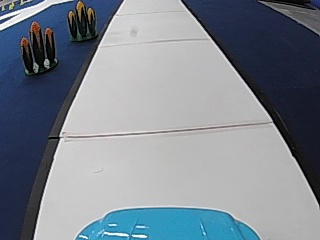corn: (19, 19, 59, 75), (65, 0, 99, 41)
